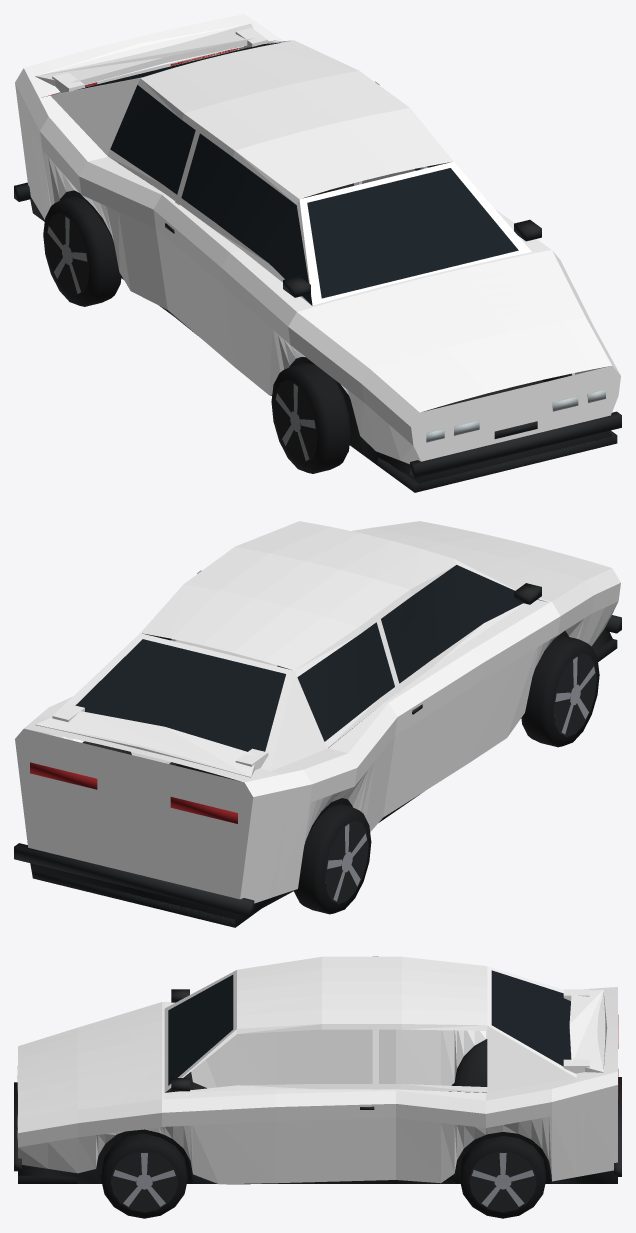
File: bancroft_cintila.glb
The picture shows the model from 3 angles, top to bottom: view 1: azimuth 30°, elevation 25°; view 2: azimuth 150°, elevation 25°; view 3: azimuth 270°, elevation 25°; orthographic projection. The views are drawn at different scales.
Parts seen in each view (by area): view 1: Body_Paint, Body_Details, Mount_FrontLeft_Wheel_Details, Mount_RearLeft_Wheel_Details; view 2: Body_Paint, Body_Details, Mount_FrontLeft_Wheel_Details, Mount_RearLeft_Wheel_Details; view 3: Body_Paint, Body_Details, Mount_FrontRight_Wheel_Details, Mount_RearRight_Wheel_Details.
Part boxes in pixels (x1,y1,x2,y2): Body_Paint: (15,14,620,464); Body_Details: (14,42,621,492); Mount_FrontLeft_Wheel_Details: (271,363,350,473); Mount_RearLeft_Wheel_Details: (43,196,121,306); Body_Paint: (15,521,620,903); Body_Details: (14,565,621,927); Mount_FrontLeft_Wheel_Details: (521,635,599,747); Mount_RearLeft_Wheel_Details: (294,804,371,914); Body_Paint: (18,956,617,1184); Body_Details: (14,970,621,1184); Mount_FrontRight_Wheel_Details: (101,1133,187,1218); Mount_RearRight_Wheel_Details: (459,1135,546,1218).
Size of the model in its own units: 1.76 by 1.37 by 4.2.
2 materials, 1 textured.
